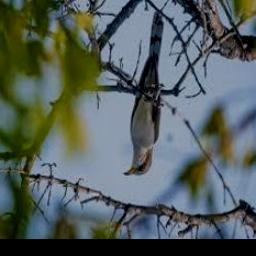Cuckoo: (123, 11, 164, 177)
